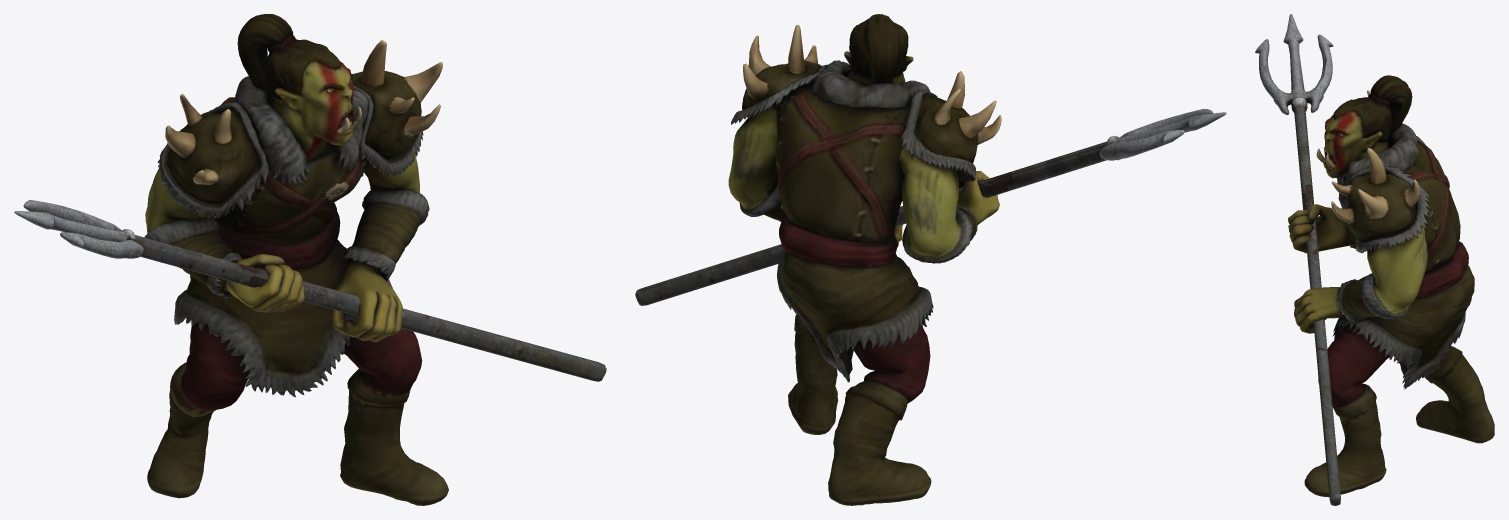
Rendered from MZ4250 - Orc Male Warrior_red_trident.glb.
3 views of the same model, side by side, from view 1: azimuth 30°, elevation 25°; view 2: azimuth 150°, elevation 25°; view 3: azimuth 270°, elevation 25° (orthographic). The views are drawn at different scales.
Parts seen in each view (by area): view 1: Trident2.001; view 2: Trident2.001; view 3: Trident2.001.
Part boxes in pixels (<box>): Trident2.001: <box>14,14,606,505</box>; Trident2.001: <box>635,14,1226,505</box>; Trident2.001: <box>1255,14,1494,505</box>.
Size of the model in its own units: 52.56 by 39.09 by 22.87.
Materials: 2 (2 with a texture image).
